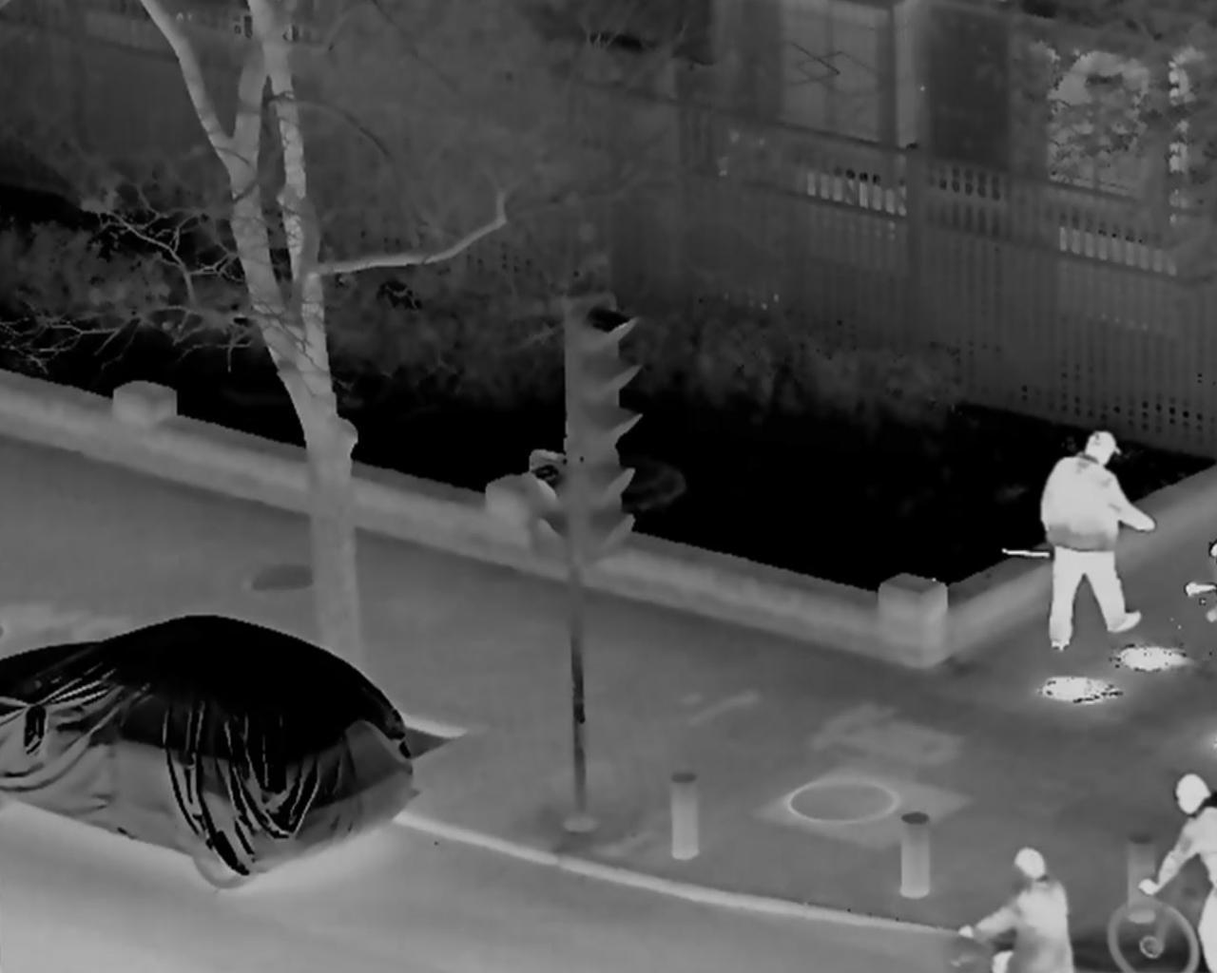person: (1041, 431, 1149, 650), (959, 851, 1075, 973), (1144, 779, 1217, 966)
